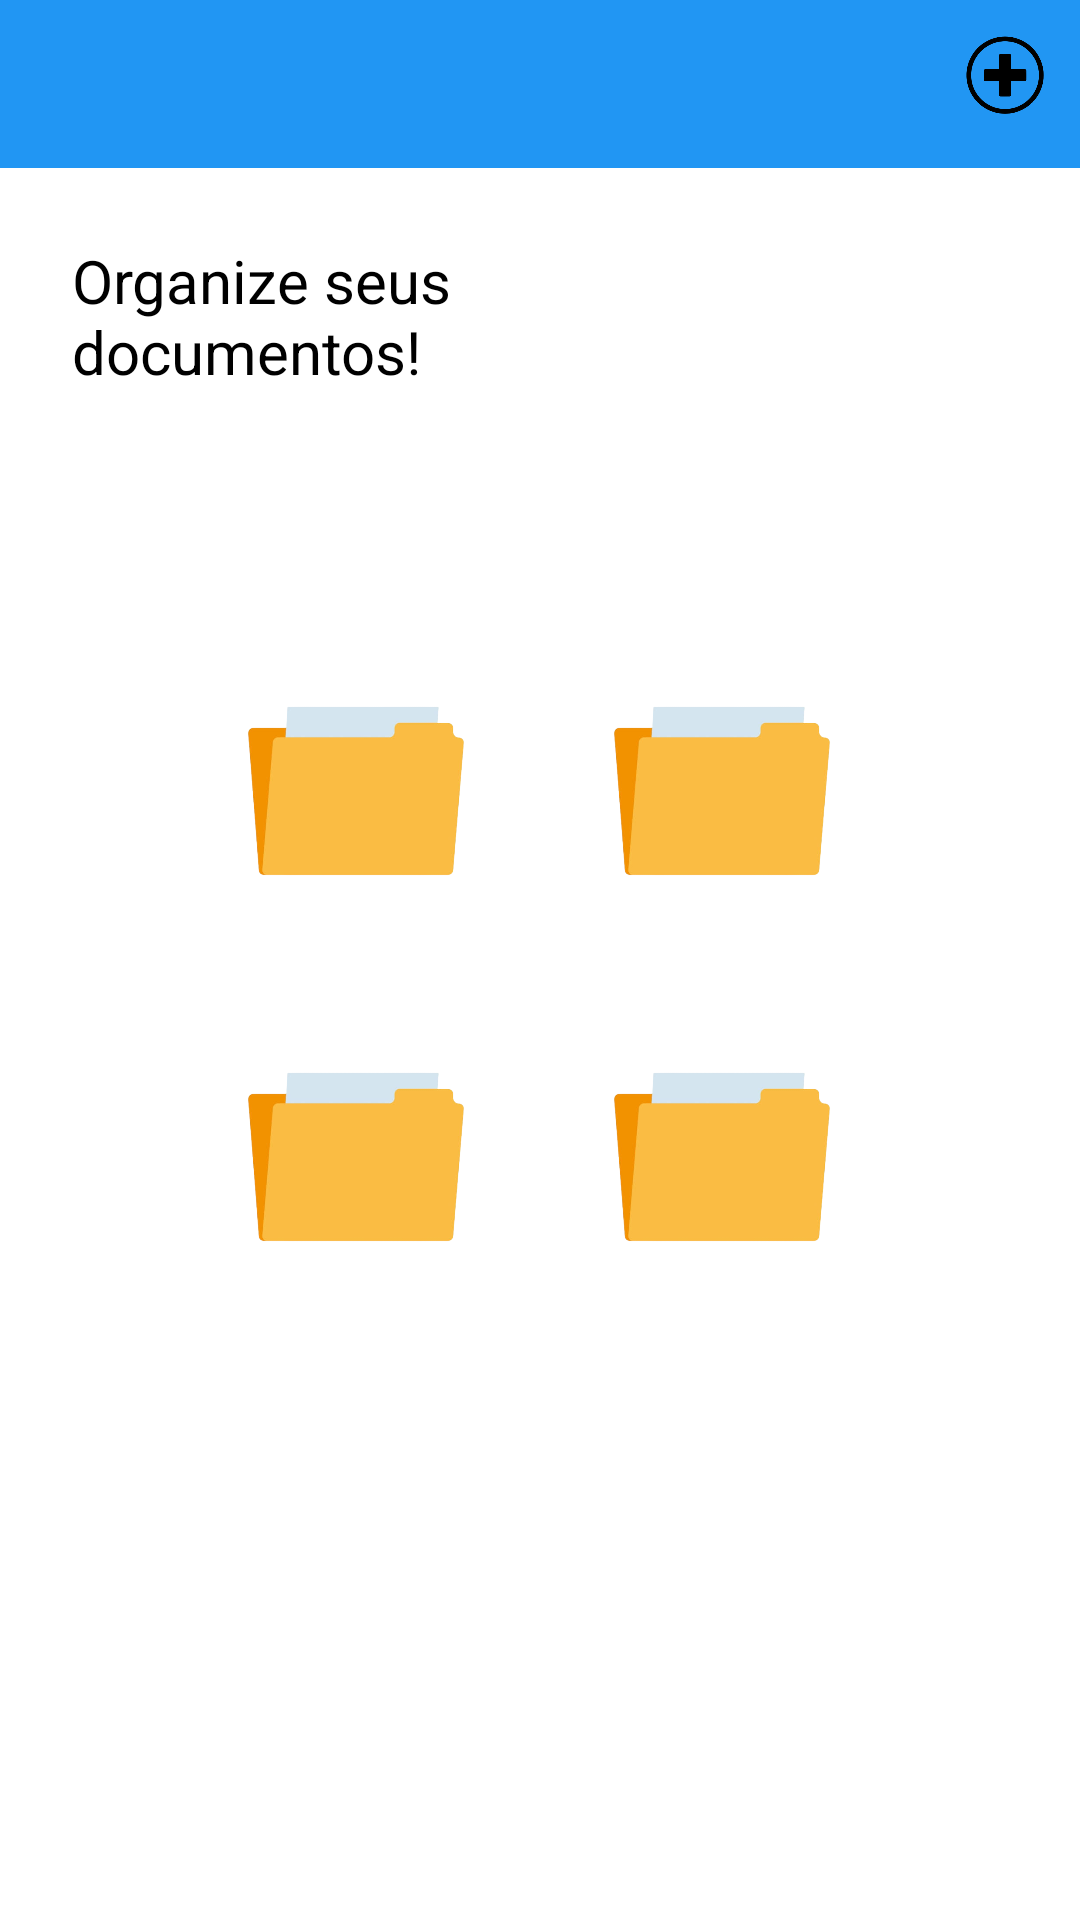

Named icons in this screenshot (1080w x 1920h) and their centers, (x=x, y=y):
addarquivos: (x=1005, y=75)
Pasta: (x=356, y=791), (x=722, y=791), (x=356, y=1157), (x=722, y=1157)
